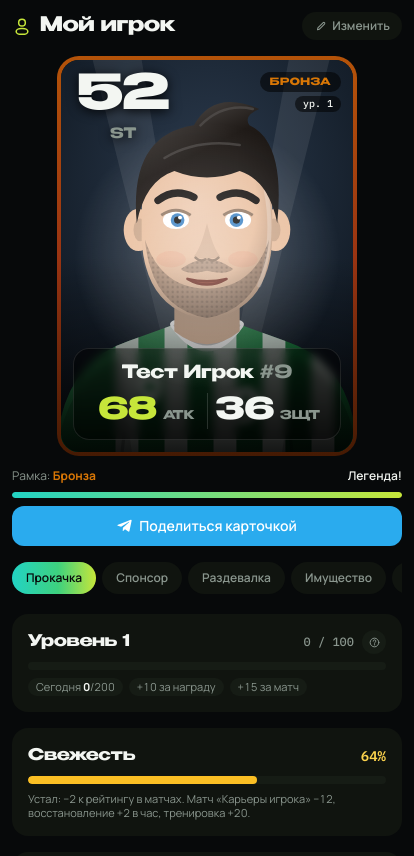
it: MyPlayerPage › shows the drill of the day, the streak and freshness
expect the element with test id "freshness" shows "−2 к рейтингу": met, box [28, 791, 187, 806]
Click the button named "Как получать опыт" at (374, 642), box [362, 630, 386, 654]
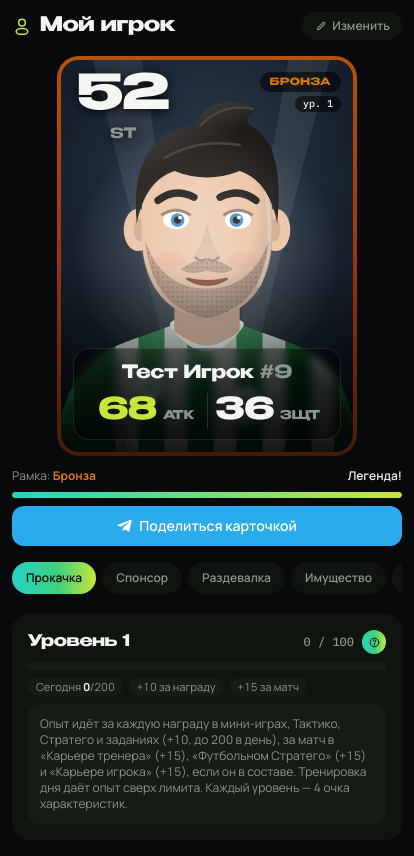
expect the text with test id "level-info" is shown: met, box [28, 704, 386, 824]
